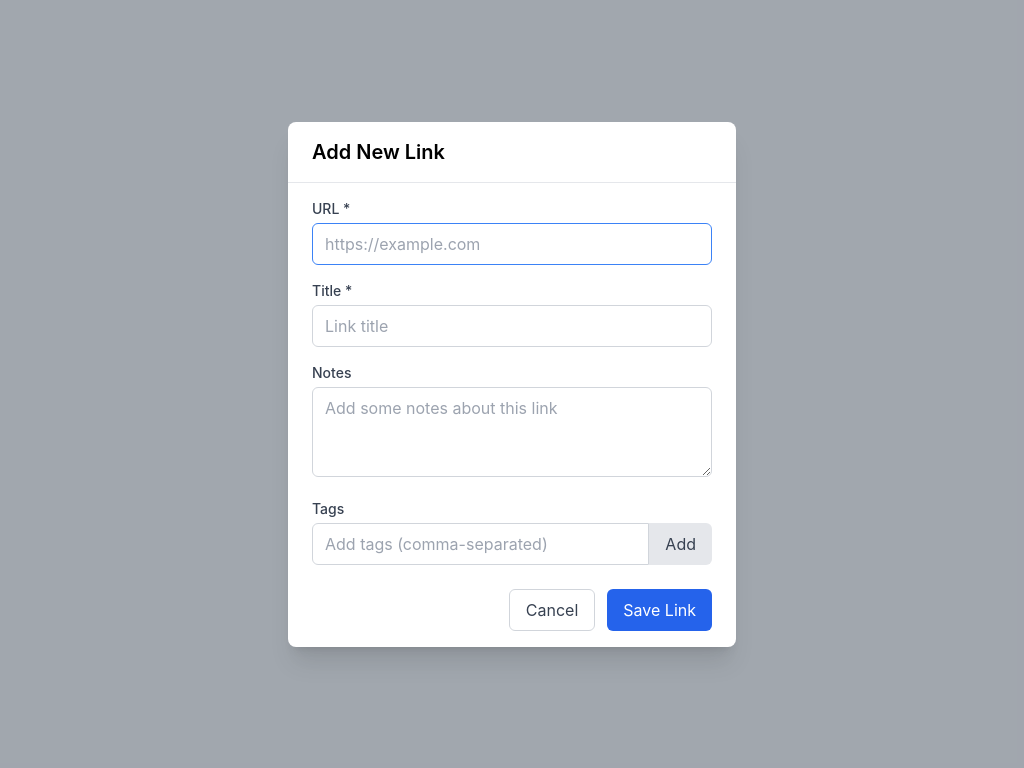
Test case: Tag Input Functionality › should trim whitespace and convert tags to lowercase
The image size is (1024, 768).
Note: Enter tags with whitespace and mixed case
Type "  Redux  ,  GraphQL  " into the field with placeholder "Add tags (comma-separated)".
click(481, 544); type("  Redux  ,  GraphQL  ")  # box [312,522,649,564]
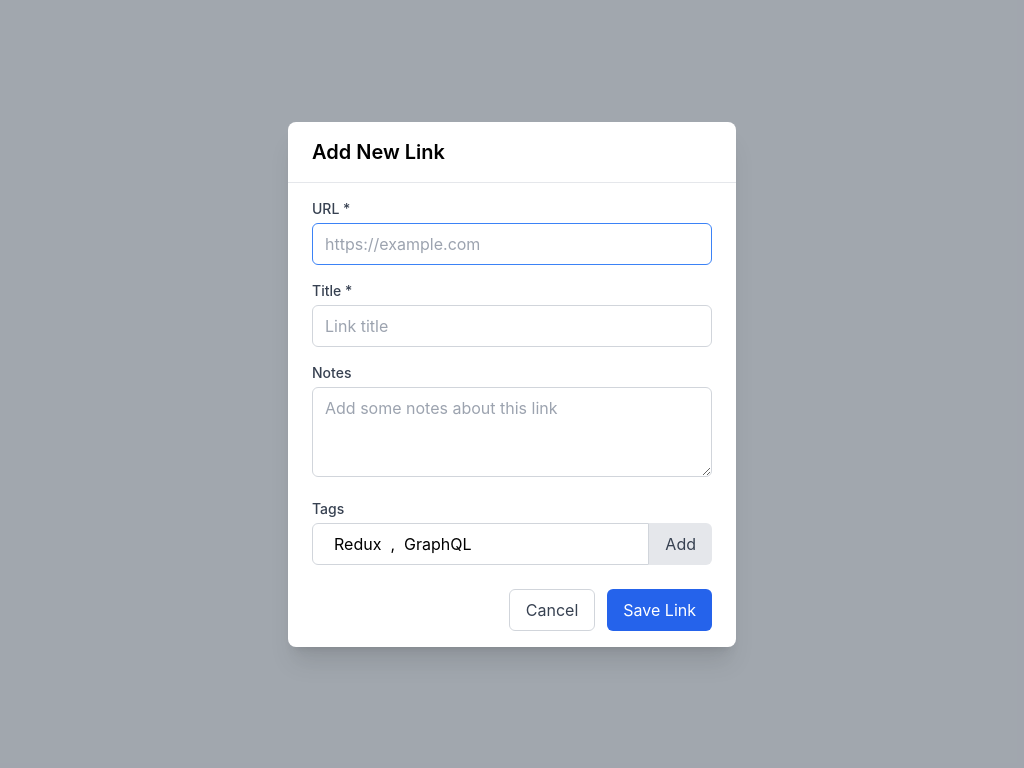
Note: Press Enter to add the tags
Press Enter in the field with placeholder "Add tags (comma-separated)", box [312,522,649,564]
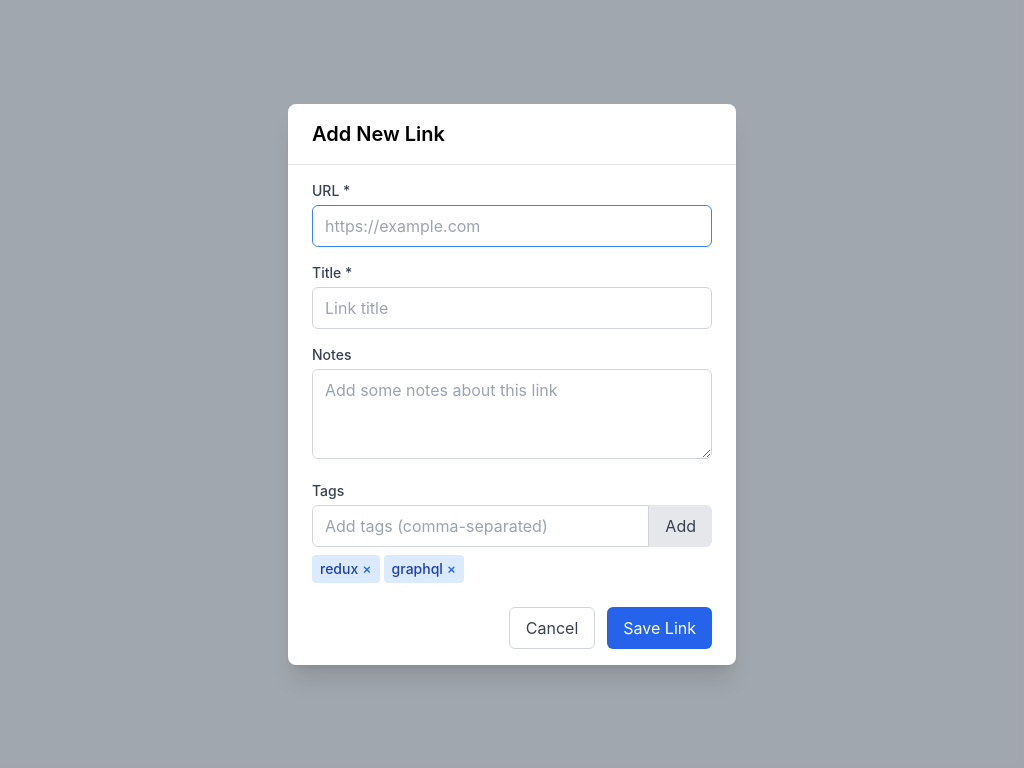
Result: the text "redux" is shown at [320,560,358,576]
Result: the text "graphql" is shown at [392,560,443,576]
Result: the field with placeholder "Add tags (comma-separated)" is empty at [312,504,649,546]
